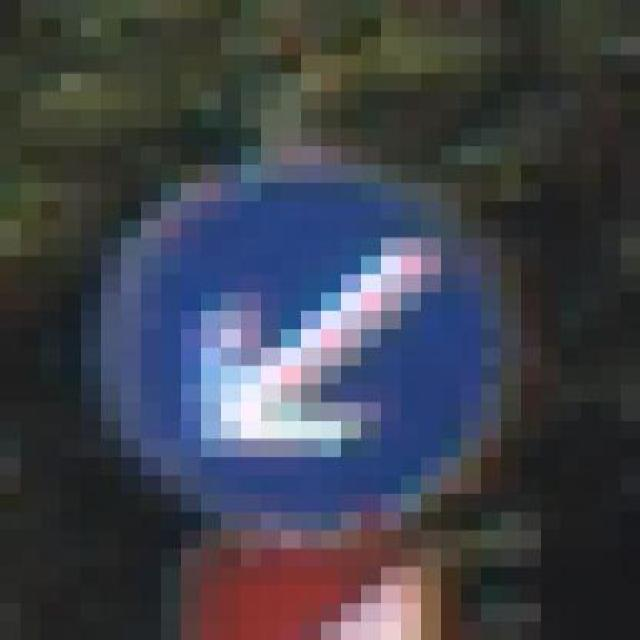Keep-Left: (80, 128, 540, 530)
